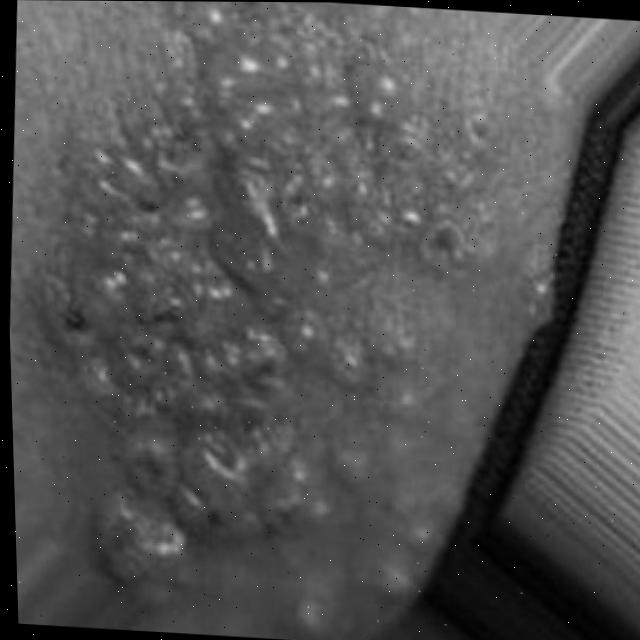Shingles: (13, 0, 562, 640)
